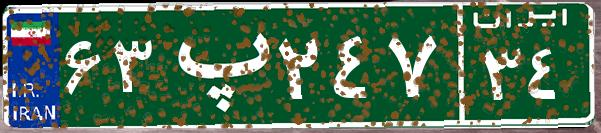2: (273, 28, 330, 110)
3: (475, 38, 525, 113), (110, 28, 158, 105)
4: (330, 28, 385, 110), (525, 38, 570, 115)
6: (57, 26, 110, 107)
7: (385, 28, 445, 110)
پ: (158, 15, 273, 115)
